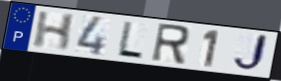1: (201, 29, 222, 69)
4: (75, 15, 108, 58)
H: (30, 10, 78, 53)
J: (230, 33, 271, 74)
L: (115, 19, 146, 61)
R: (149, 22, 192, 67)
